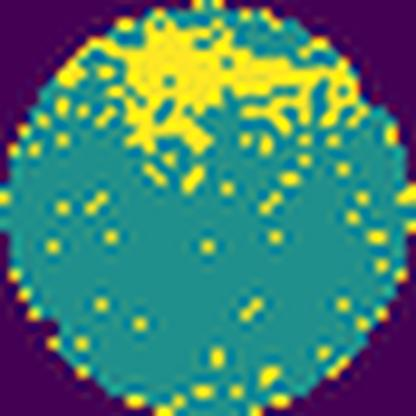Loc: (85, 19, 361, 156)
